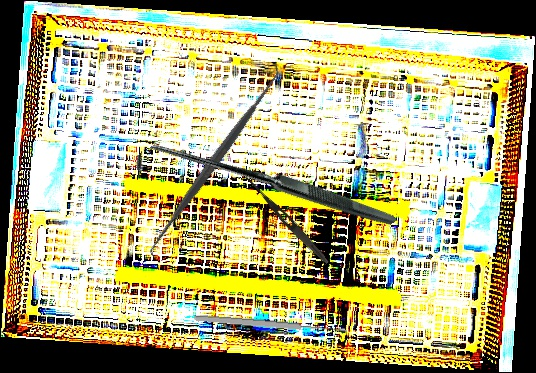Dressing Forceps: (241, 173, 332, 267)
Hook Surgical: (130, 56, 398, 324)
Spatula Surgical: (137, 60, 293, 260)
Surgical Spoon: (193, 313, 348, 336)
